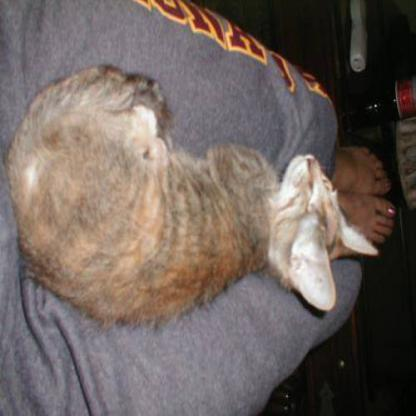cat: (10, 57, 383, 321)
